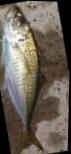fish: (0, 4, 50, 154)
